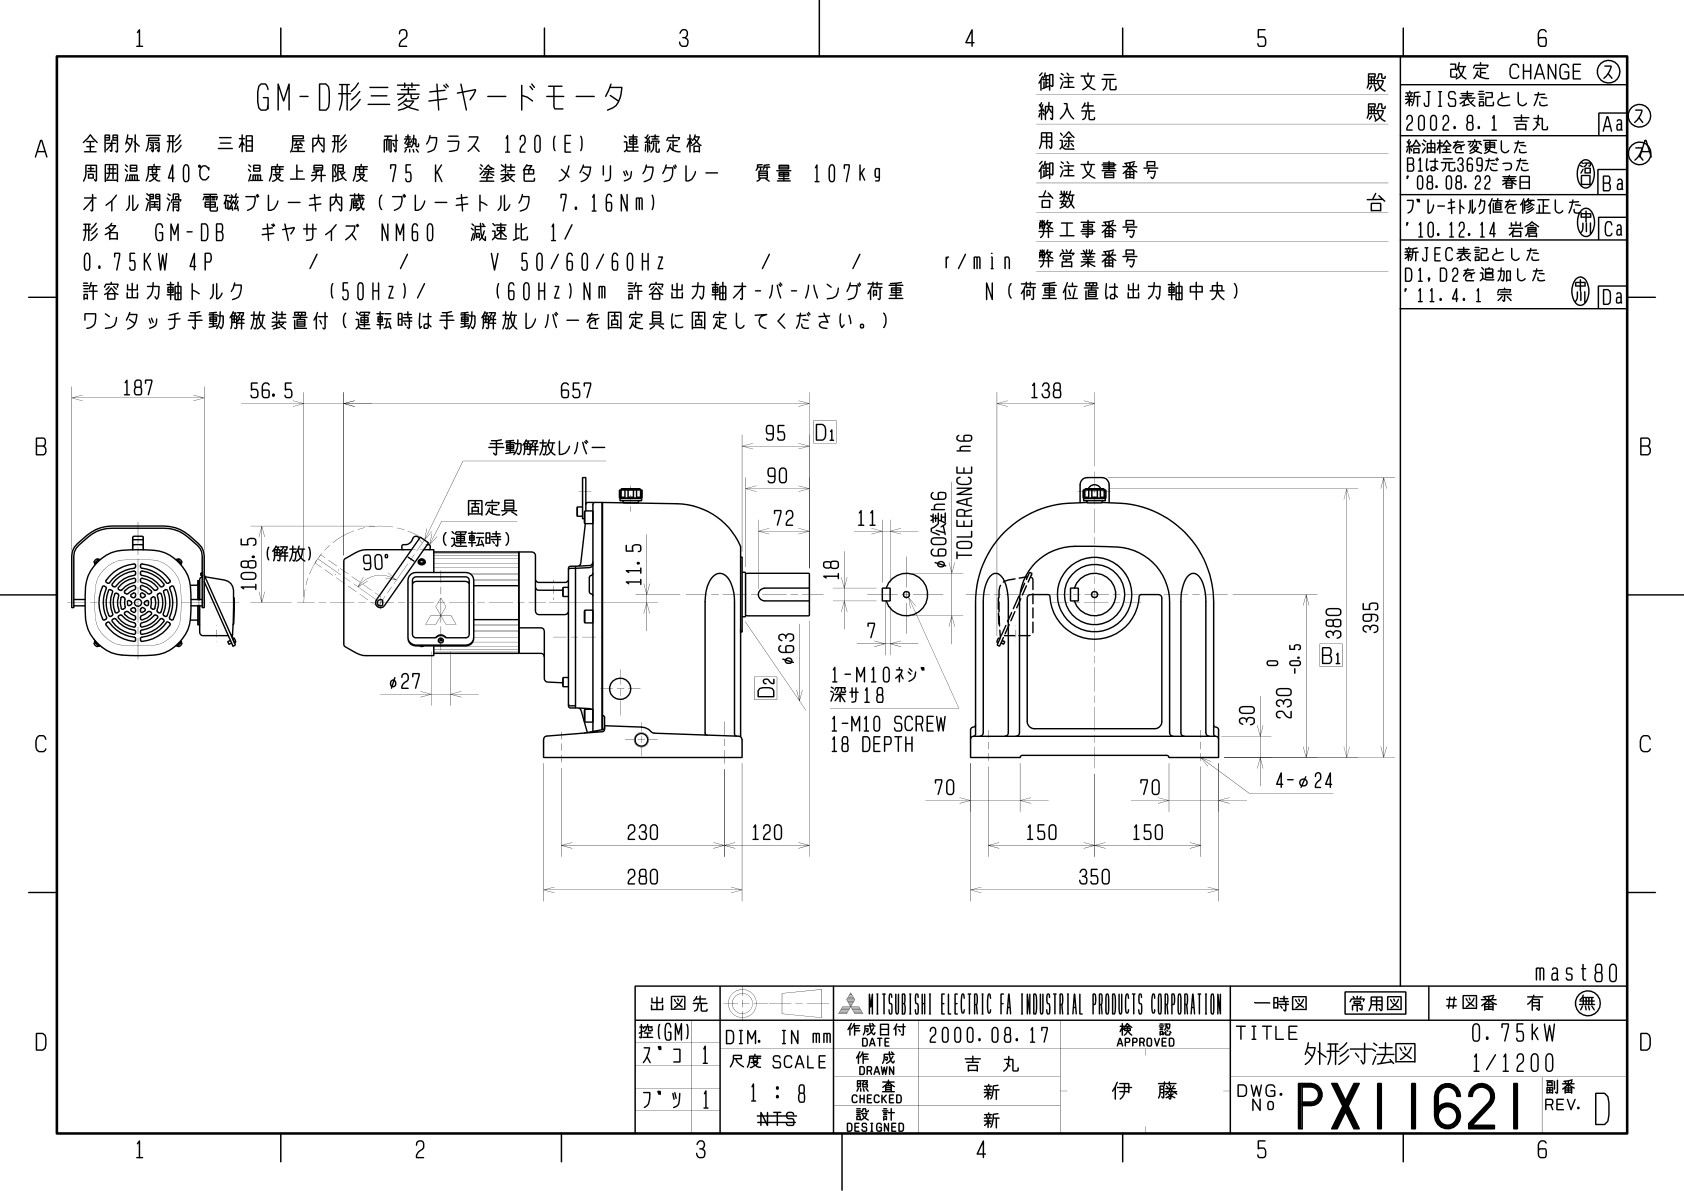GM_D_手動解放ブレーキ＿三相_脚: (12, 13, 1684, 1191)
